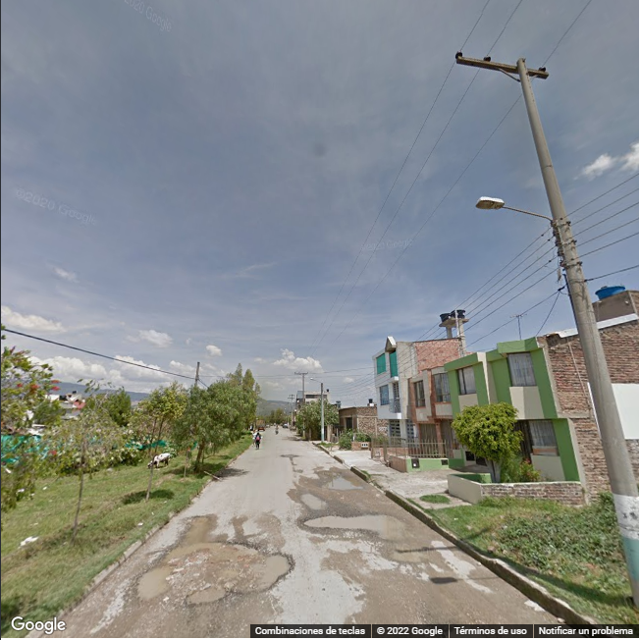D40: (302, 509, 407, 541), (236, 550, 295, 596), (165, 539, 253, 560), (133, 564, 169, 604), (178, 588, 224, 606), (392, 546, 432, 564)
